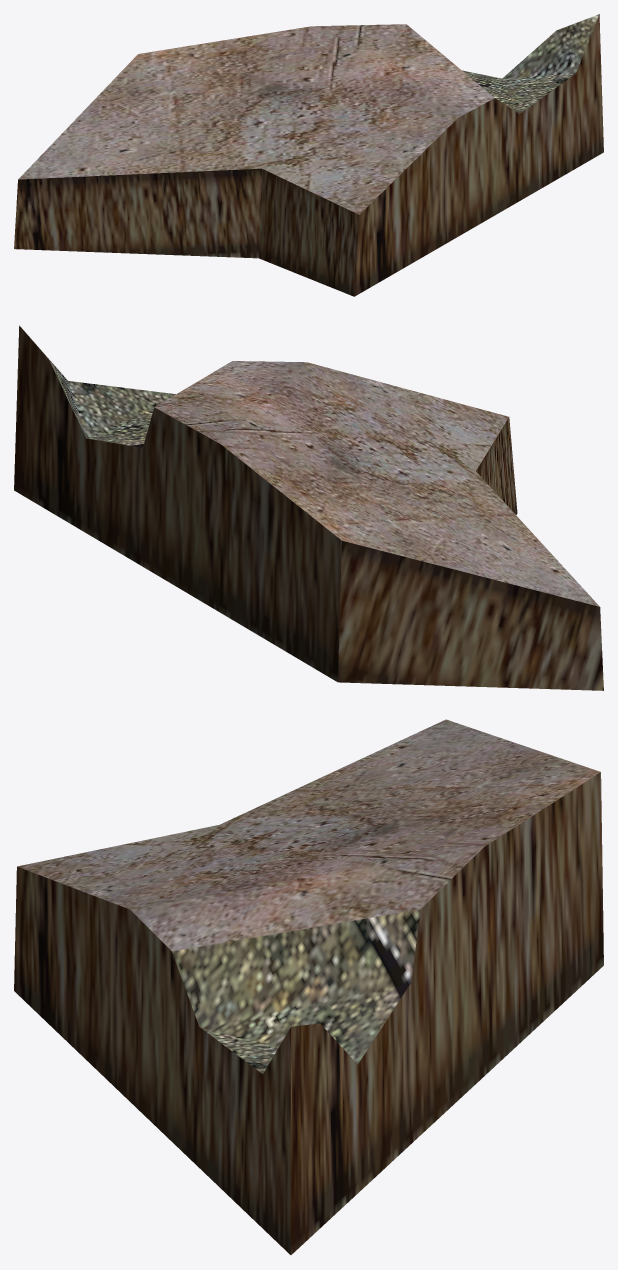
Rendered from medium_rubble_var3.fbx.
3 renders of one model, top to bottom at view 1: azimuth 30°, elevation 25°; view 2: azimuth 150°, elevation 25°; view 3: azimuth 270°, elevation 25°, orthographic. The views are drawn at different scales.
Parts seen in each view (by area): view 1: mesh_2, mesh_1, mesh_0; view 2: mesh_2, mesh_1, mesh_0; view 3: mesh_2, mesh_1, mesh_0.
Boxes of the visible parts, box(x1,y1,x2,y2) form: mesh_2: box(14, 14, 603, 296); mesh_1: box(18, 24, 494, 214); mesh_0: box(462, 14, 599, 113); mesh_2: box(14, 325, 603, 690); mesh_1: box(154, 361, 599, 606); mesh_0: box(24, 331, 175, 447); mesh_2: box(14, 772, 603, 1254); mesh_1: box(17, 719, 600, 951); mesh_0: box(172, 909, 420, 1073).
Size of the model in its own units: 92.25 by 22.67 by 53.81.
Materials: 3 (3 with a texture image).
